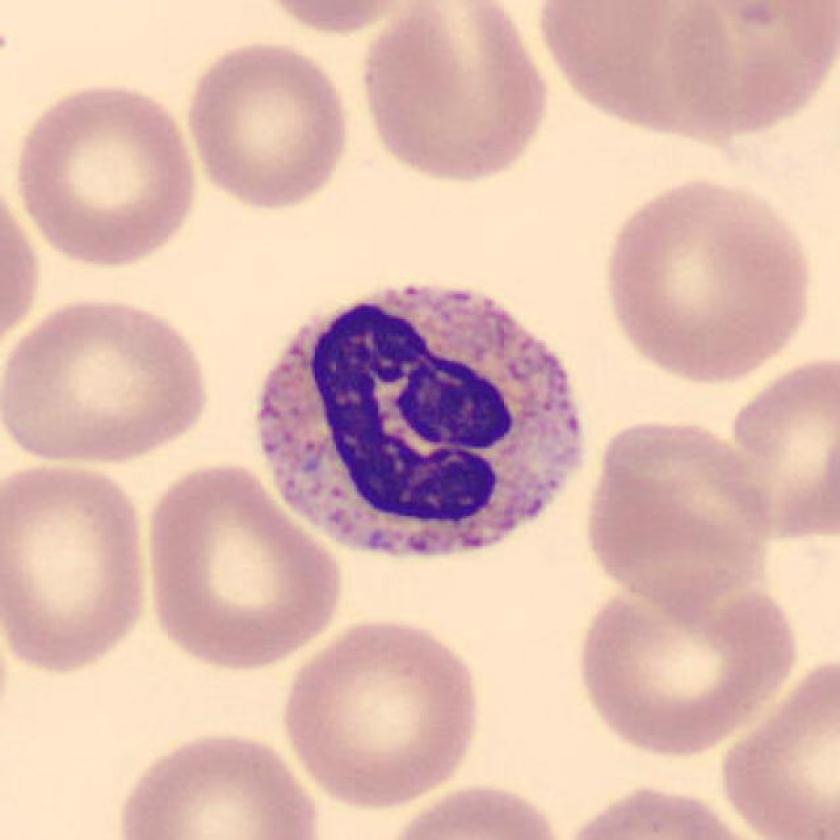neutrophil: (260, 289, 585, 562)
